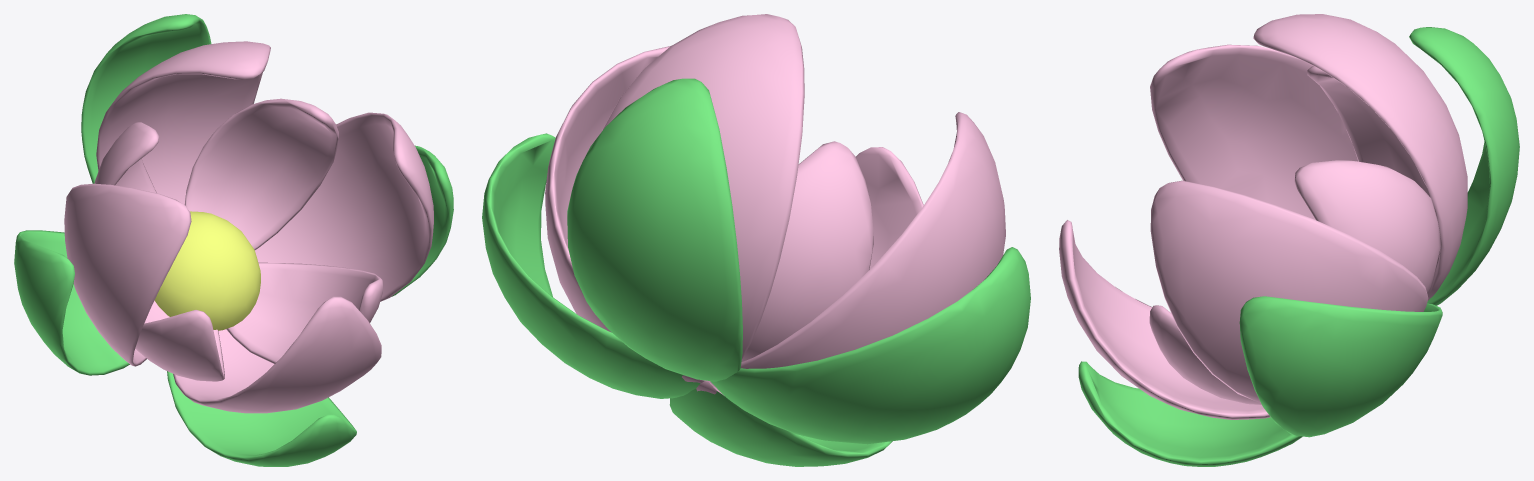
The model's file is Flor De Lotus.fbx.
The picture shows the model from 3 angles, left to right: view 1: azimuth 30°, elevation 25°; view 2: azimuth 150°, elevation 25°; view 3: azimuth 270°, elevation 25°; orthographic projection. The views are drawn at different scales.
Visible parts, largest first — view 1: Flor de Lotus - Low; view 2: Flor de Lotus - Low; view 3: Flor de Lotus - Low.
Part boxes in pixels (x1=…): Flor de Lotus - Low: x1=14, y1=14, x2=453, y2=466; Flor de Lotus - Low: x1=482, y1=14, x2=1030, y2=466; Flor de Lotus - Low: x1=1059, y1=14, x2=1519, y2=466.
Bounding box in the file's own units: 152 × 131 × 128.
